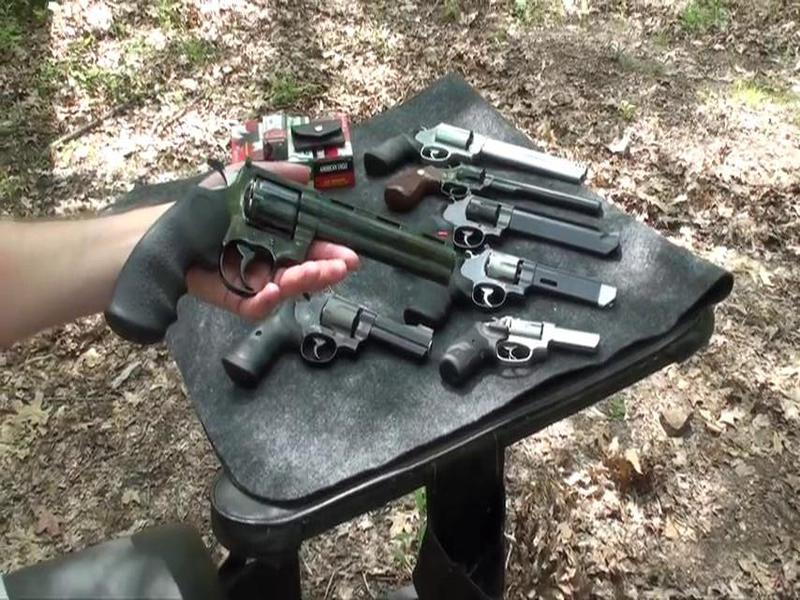Revolver: (149, 149, 464, 312)
